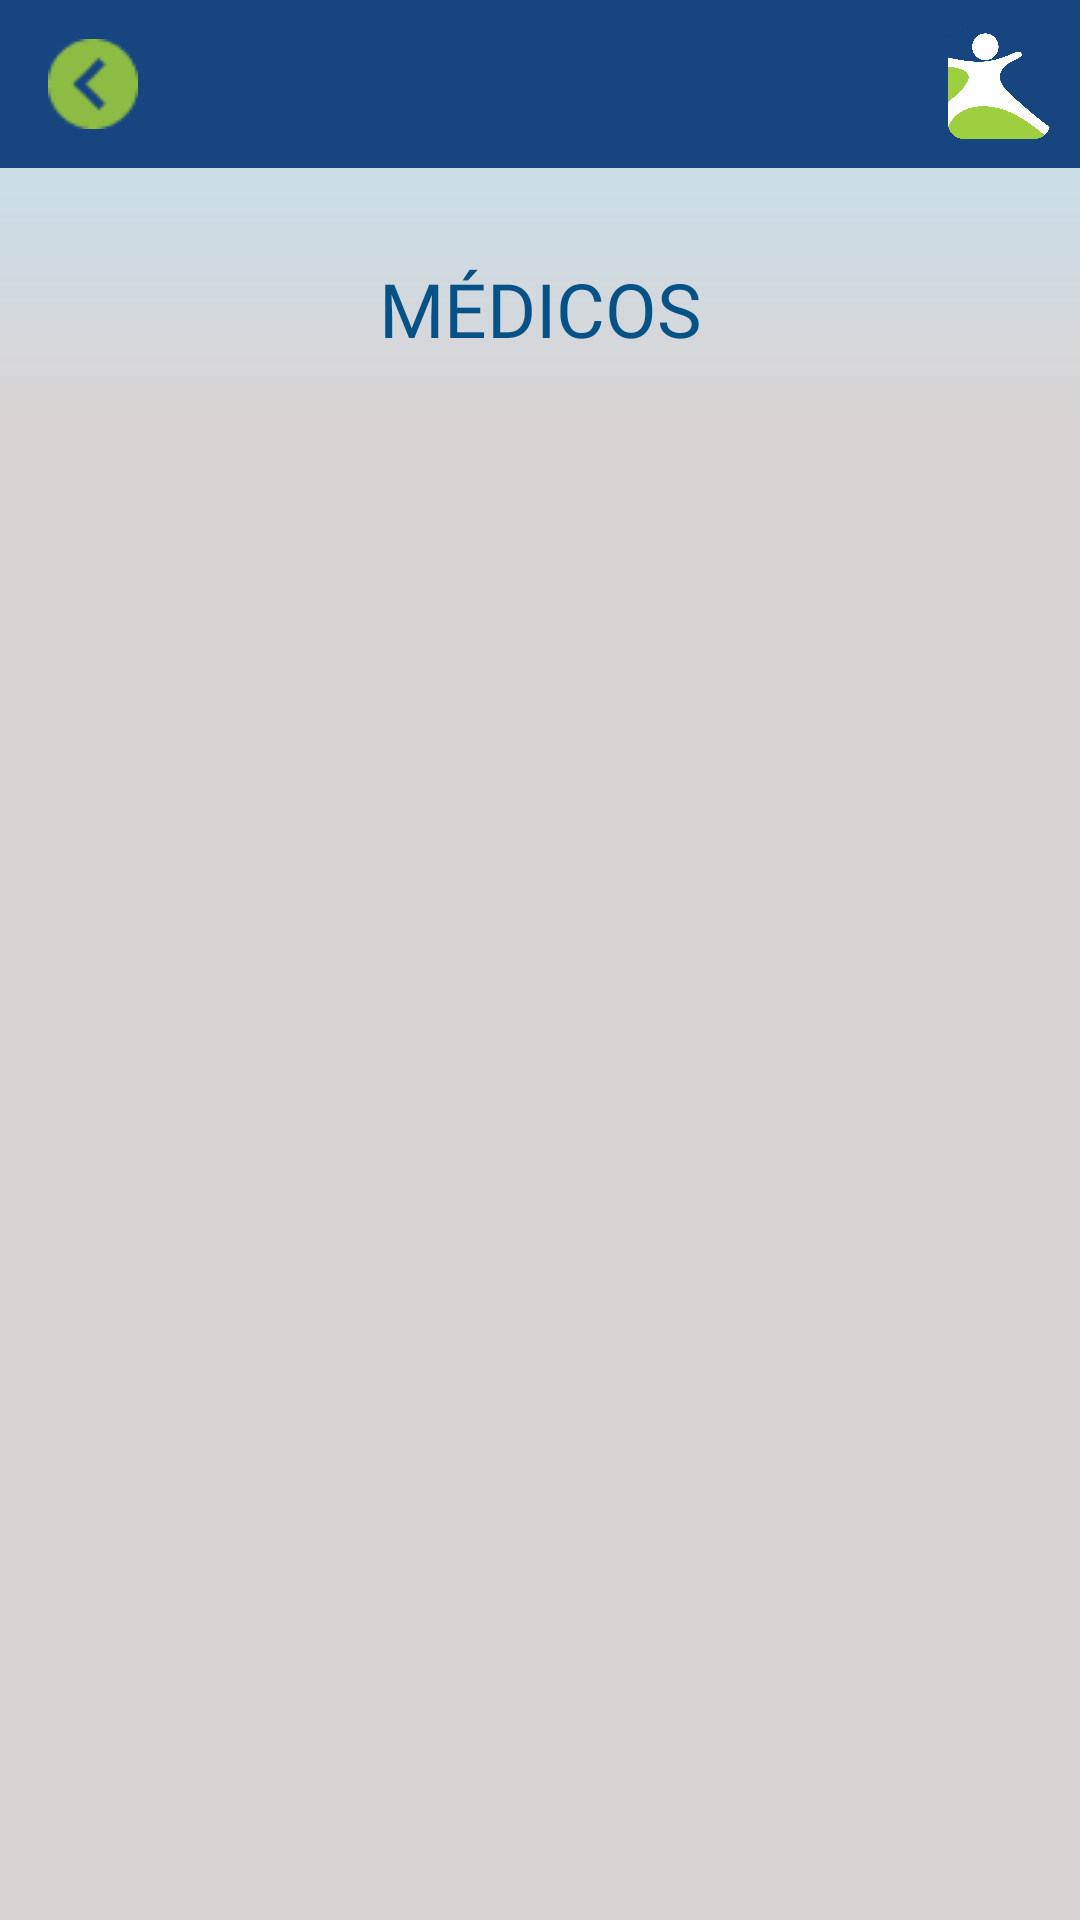

Where icons sit on this 1080px x 1920px app screen, as bbox(x1, y1, x2, y2):
back: bbox(48, 39, 138, 129)
